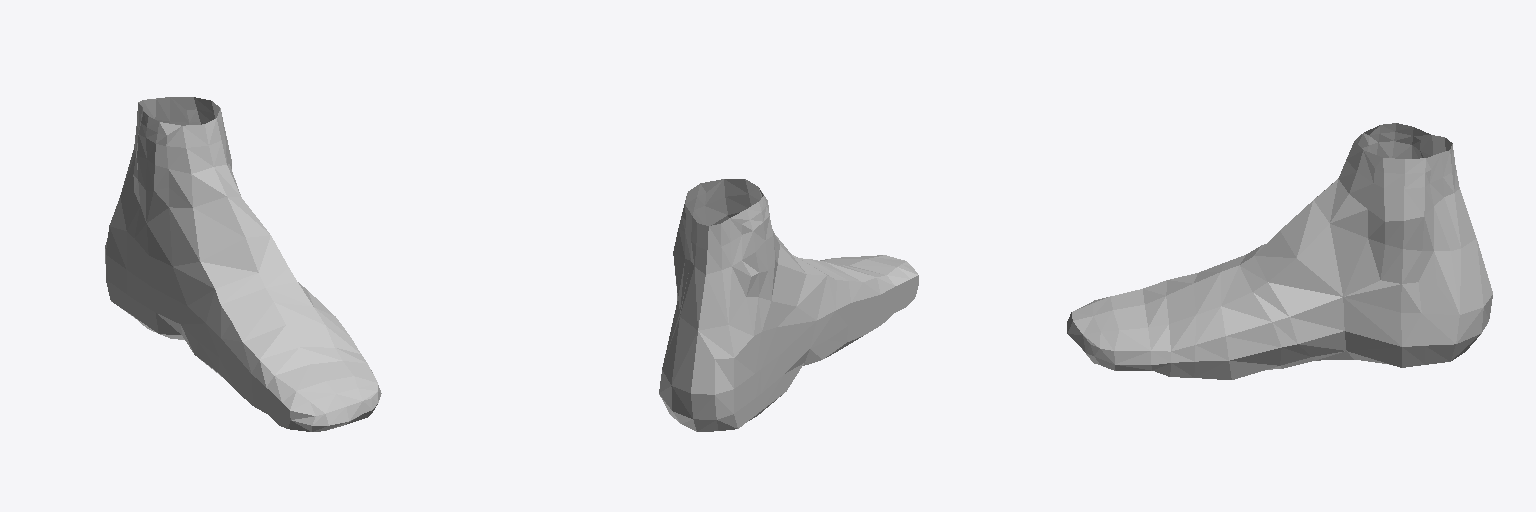
Rendered from foot2.obj.
The picture shows the model from 3 angles: view 1: azimuth 30°, elevation 25°; view 2: azimuth 150°, elevation 25°; view 3: azimuth 270°, elevation 25°; orthographic projection.
Parts seen in each view (by area): view 1: polySurface2 girl_OBJ:Mesh; view 2: polySurface2 girl_OBJ:Mesh; view 3: polySurface2 girl_OBJ:Mesh.
Boxes of the visible parts, x1=… form: polySurface2 girl_OBJ:Mesh: x1=105, y1=97, x2=381, y2=431; polySurface2 girl_OBJ:Mesh: x1=659, y1=179, x2=918, y2=431; polySurface2 girl_OBJ:Mesh: x1=1067, y1=123, x2=1492, y2=379.
Bounding box in the file's own units: 0.0535 × 0.0944 × 0.1672.